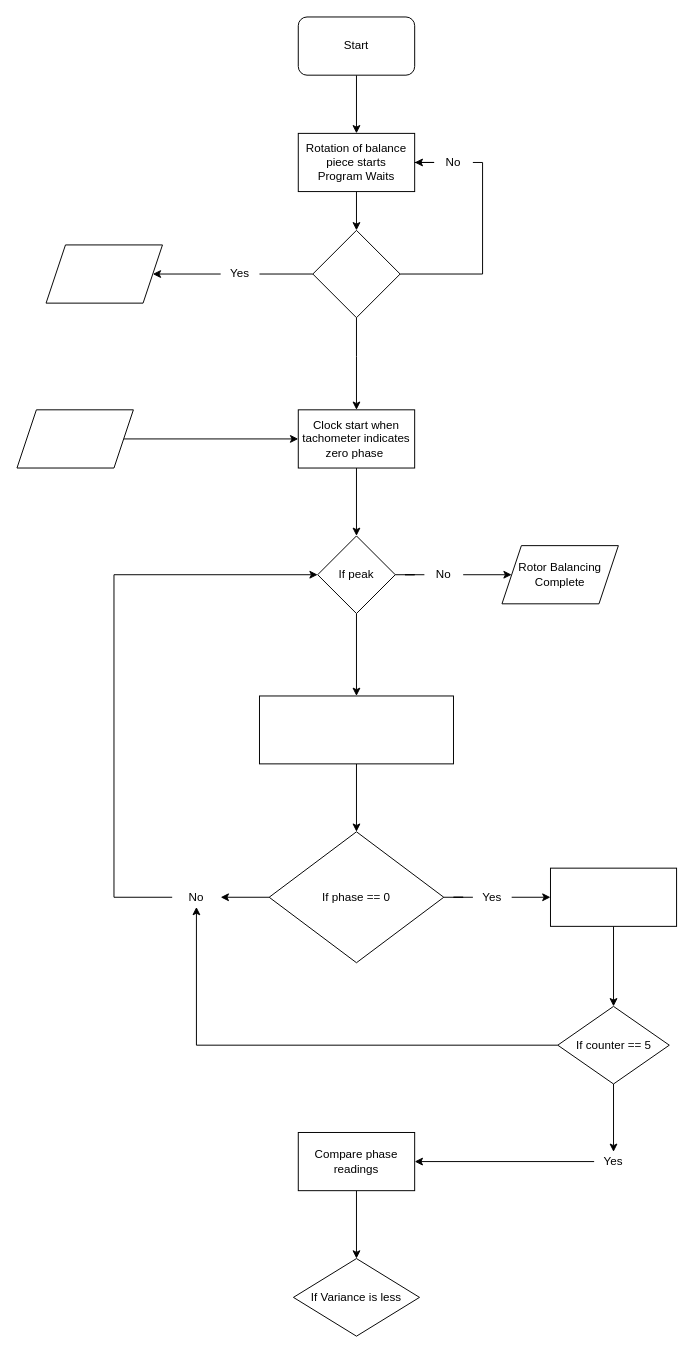
Image size: 694x1353. Some labels were removed from this diagram. Here are the shapes that lost their labels. From the top down, the centre of each, then its label:
At point 103,273: "LCD Display RPM".
At point 356,273: "If RPM is constant".
At point 74,438: "Tachometer Signal".
At point 356,729: "Record time Calculate phase using RPM store phase value".
At point 613,896: "Reset Clock Counter ++".
